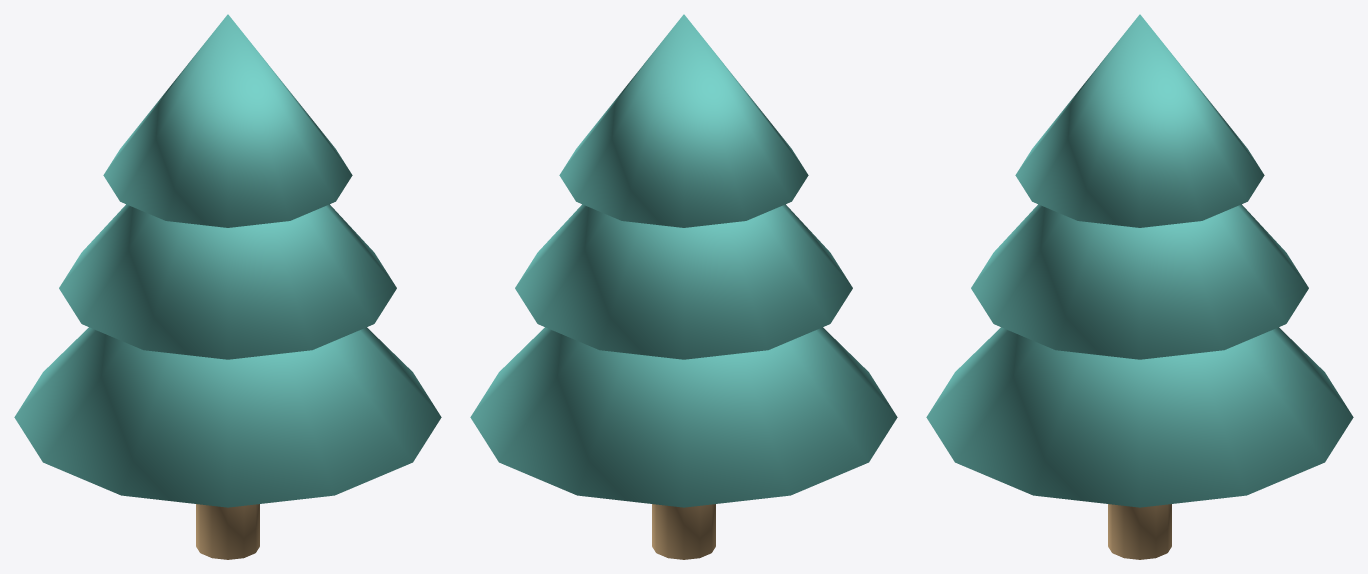
The model's file is prop_pine_tree.glb.
3 views of the same model, side by side, from view 1: azimuth 30°, elevation 25°; view 2: azimuth 150°, elevation 25°; view 3: azimuth 270°, elevation 25° (orthographic).
Parts seen in each view (by area): view 1: prop_pine_tree; view 2: prop_pine_tree; view 3: prop_pine_tree.
Part boxes in pixels (x1,y1,x2,y2): prop_pine_tree: [14, 14, 441, 559]; prop_pine_tree: [470, 14, 897, 559]; prop_pine_tree: [926, 14, 1353, 559].
Size of the model in its own units: 2.4 by 3.3 by 2.4.
